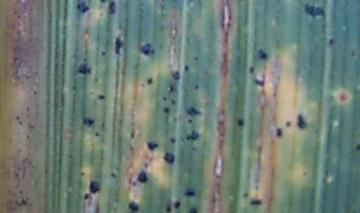tarspot: (304, 3, 324, 17), (114, 36, 124, 56), (87, 181, 100, 194), (76, 63, 91, 74), (184, 130, 199, 141), (296, 114, 306, 130), (135, 171, 147, 184), (163, 151, 174, 165), (77, 1, 89, 13), (186, 106, 200, 115), (141, 43, 152, 54), (170, 70, 181, 81), (108, 1, 116, 16), (257, 48, 267, 60), (274, 125, 283, 138), (249, 198, 263, 206), (147, 141, 158, 151), (254, 78, 265, 88), (184, 189, 196, 197), (130, 200, 139, 210), (83, 118, 94, 126), (97, 93, 106, 101), (247, 65, 255, 74), (187, 207, 198, 213), (130, 129, 136, 140), (183, 64, 190, 73), (173, 200, 180, 209), (169, 84, 175, 94), (354, 142, 360, 152), (146, 77, 153, 85), (83, 192, 90, 200), (165, 206, 173, 213), (237, 119, 244, 127), (284, 120, 291, 128), (100, 50, 107, 57), (110, 172, 117, 179), (169, 137, 176, 144), (170, 99, 177, 106), (164, 107, 170, 115), (328, 38, 334, 46), (194, 83, 200, 90), (187, 118, 193, 125), (80, 170, 86, 177), (193, 55, 199, 62), (22, 198, 27, 206), (94, 131, 100, 137), (15, 114, 20, 121), (33, 90, 38, 96), (18, 120, 24, 125), (162, 97, 167, 102), (244, 192, 248, 198), (100, 1, 107, 4)
